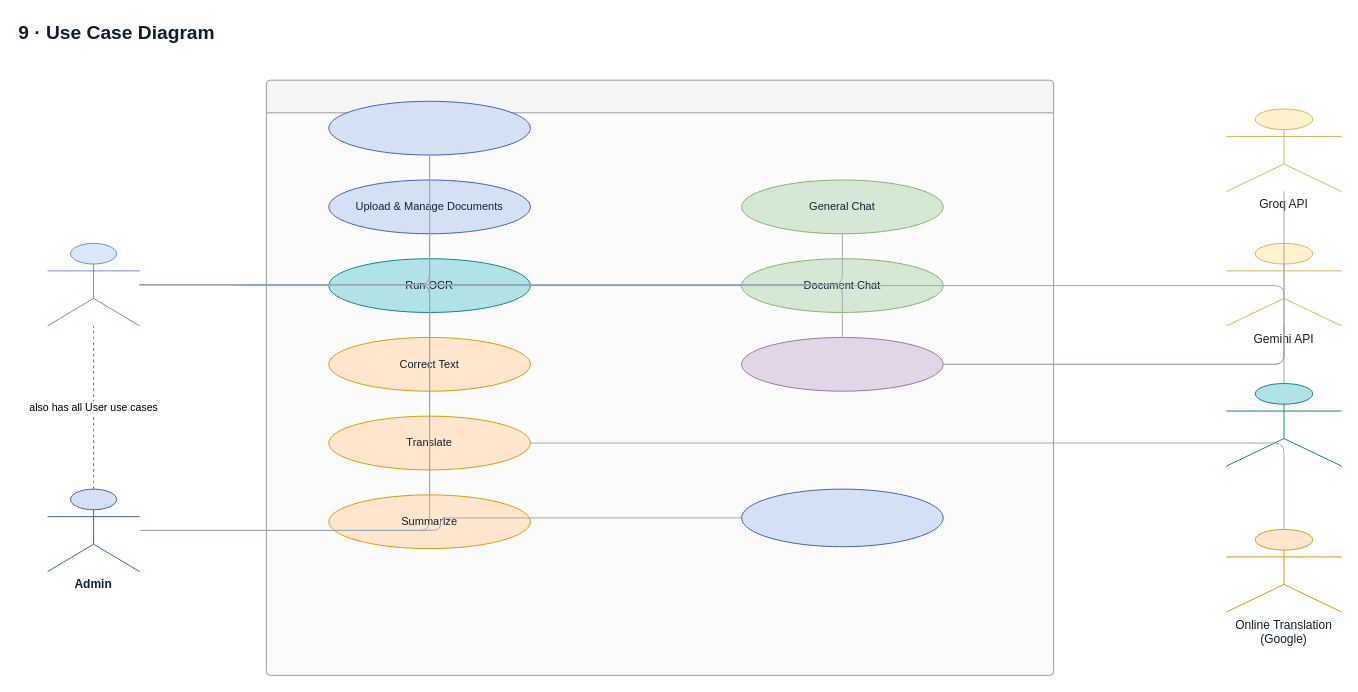
Image size: 1358x692. Some labels were removed from this diagram. Here are the shapes that lost their labels. From the top down, the box of each, then its label:
(328, 100, 530, 155): Log in
(47, 242, 140, 326): User
(265, 79, 1054, 675): SmartDocs-Agent
(741, 336, 943, 391): Run Agent
(1225, 383, 1342, 466): GLM-OCR MLX server
(741, 488, 943, 547): Administer System (users · logs · files)
